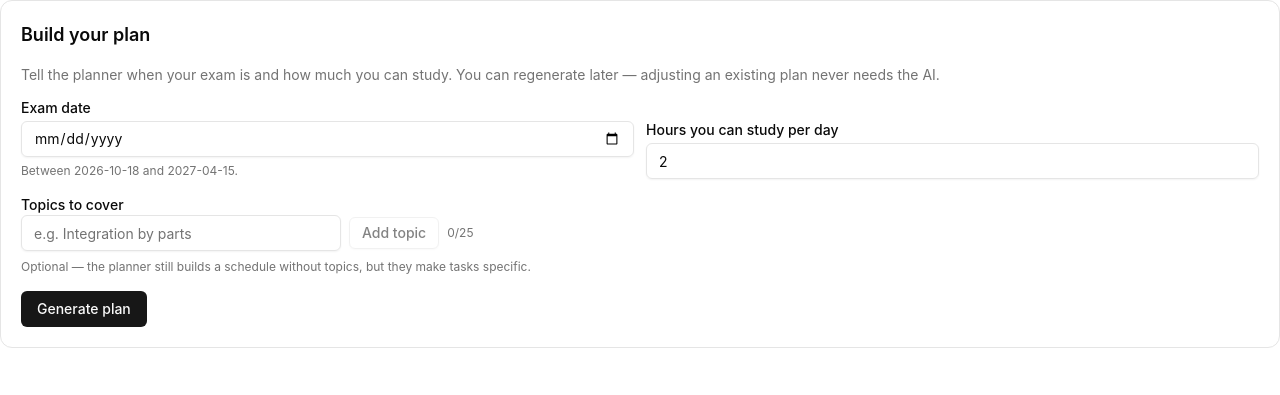
Test case: PlanSetupForm › adds, dedupes and removes topics
This screenshot has width=1280, height=395.
Type "Vectors" into the field named "Topic" at (181, 233), box [21, 215, 341, 251]
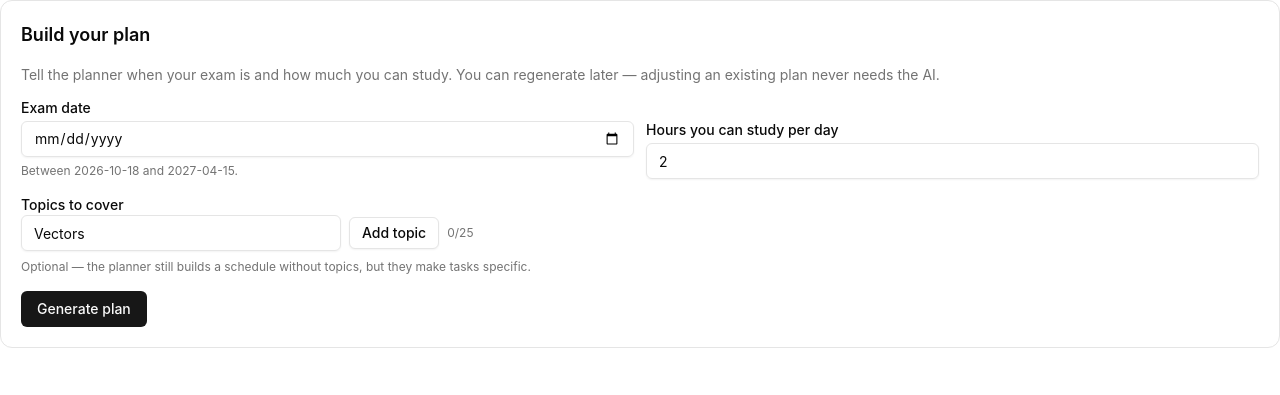
Click the button "Add topic" at (394, 233), box [349, 217, 439, 249]
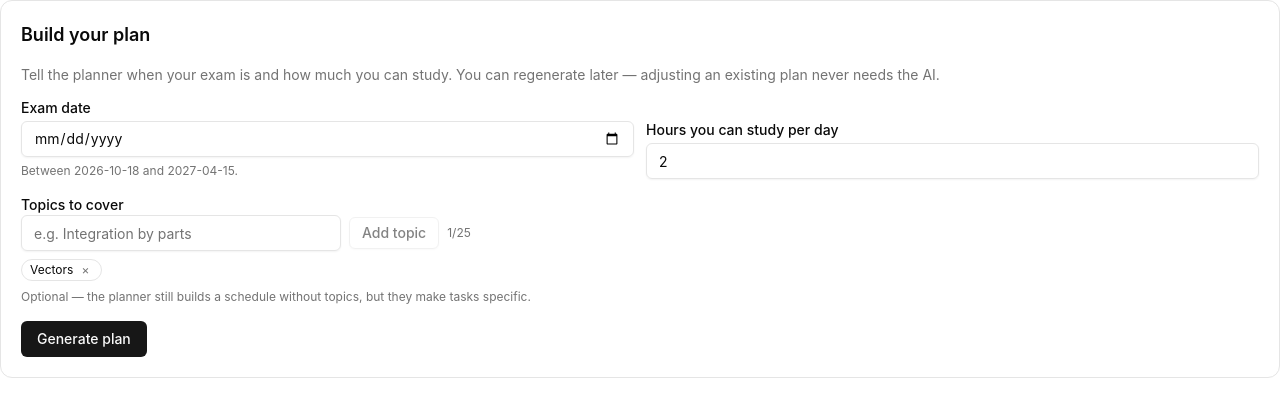
Type "Vectors" into the field named "Topic" at (181, 233), box [21, 215, 341, 251]
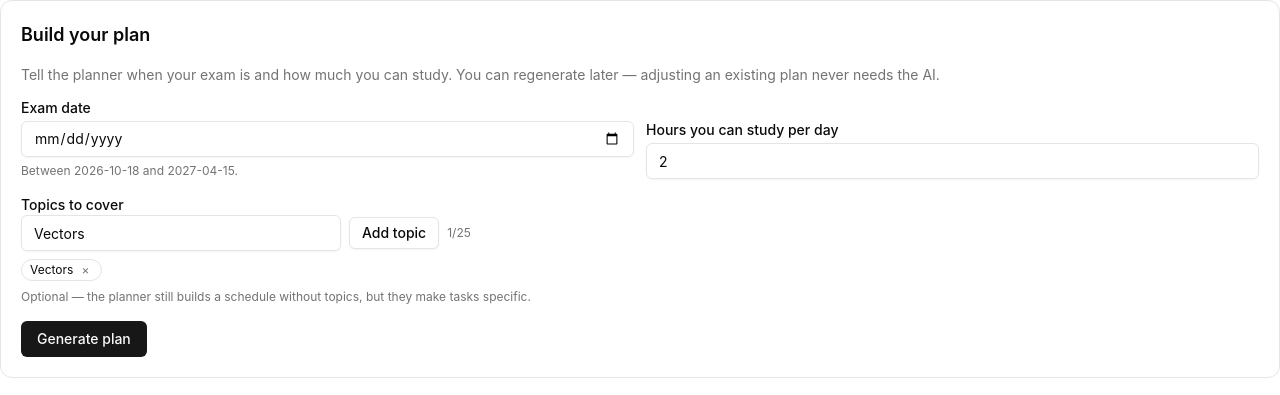
Click the button "Add topic" at (394, 233), box [349, 217, 439, 249]
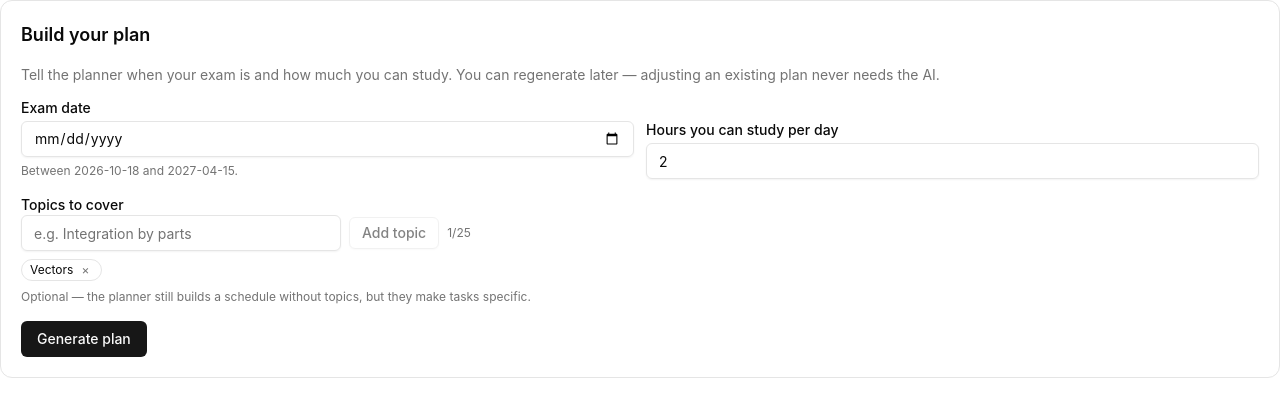
Result: the text "1/25" is shown at [447, 225, 471, 241]
Click the button named "Remove topic Vectors" at (85, 270), box [77, 262, 93, 278]
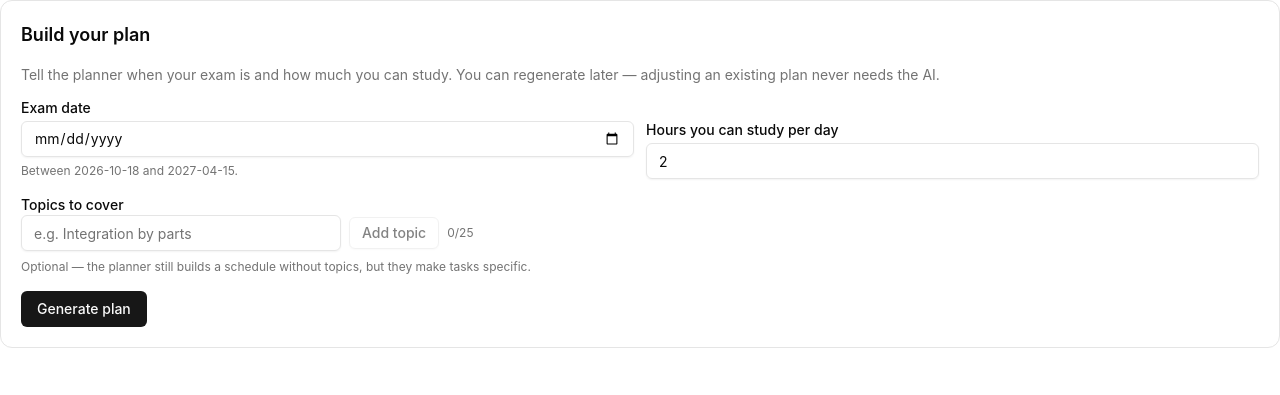
Result: the text "0/25" is shown at [447, 225, 474, 241]
